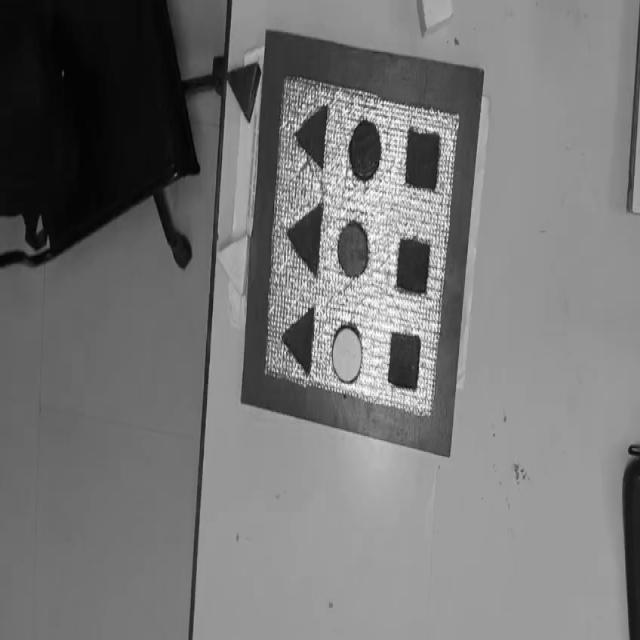bcircle: (349, 119, 382, 181)
mtcube: (406, 127, 442, 193), (395, 235, 431, 296), (387, 331, 422, 393)
mttriangle: (285, 200, 323, 276), (294, 102, 328, 169), (282, 306, 315, 375)
rcircle: (337, 221, 367, 277)
rtriangle: (227, 63, 261, 122)
wb: (265, 73, 458, 420)
ycircle: (331, 324, 363, 384)
ycube: (416, 0, 452, 38)
ytriangle: (219, 235, 250, 295)
